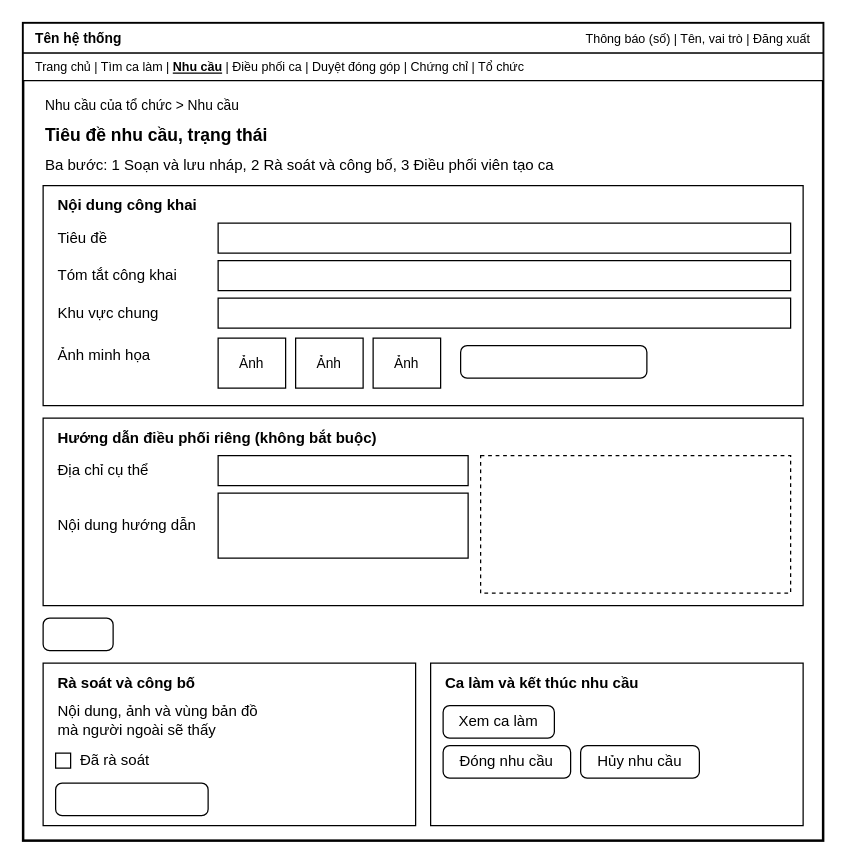
Some shapes in this 845 by 863 pixel diagram are drawn without their labels. The shapes that lost their labels are listed below. From the top down, each one's box as (x1, y1, x2, y2) in pixels, then its label:
(459, 344, 647, 378): Thêm ảnh (tối đa 5)
(479, 454, 791, 593): Vị trí trên bản đồ: tìm theo địa chỉ hoặc bấm để ghim
(42, 617, 113, 651): Lưu
(54, 782, 208, 816): Công bố nhu cầu
